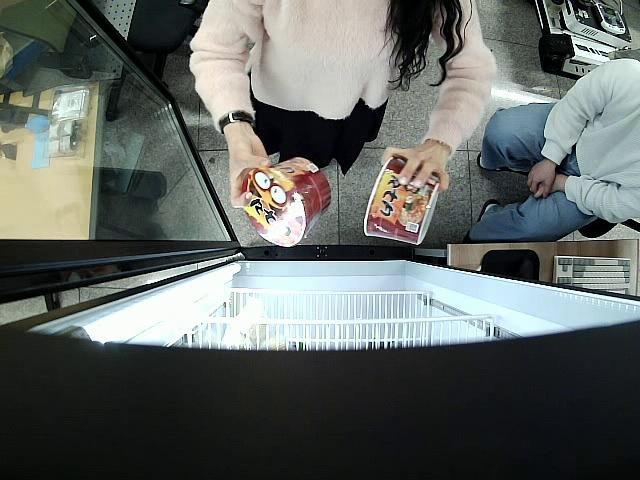05_nuguri_L: (238, 154, 330, 248), (364, 154, 439, 248)
